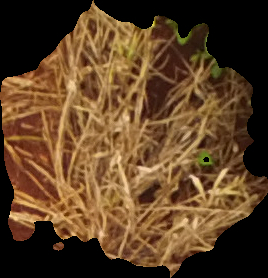soil: (2, 3, 265, 276)
